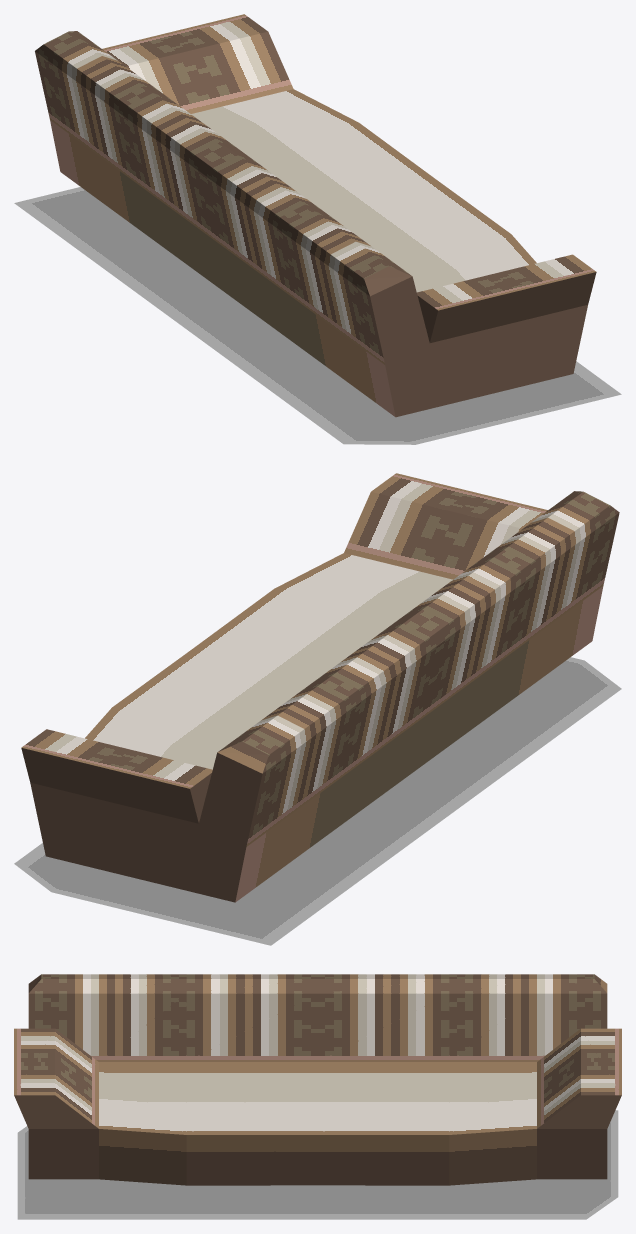
3 renders of one model, top to bottom at view 1: azimuth 30°, elevation 25°; view 2: azimuth 150°, elevation 25°; view 3: azimuth 270°, elevation 25°, orthographic. The views are drawn at different scales.
Parts seen in each view (by area): view 1: polygon0, polygon1; view 2: polygon0, polygon1; view 3: polygon0, polygon1.
Boxes of the visible parts, box(x1,y1,x2,y2) form: polygon0: box(35, 14, 596, 417); polygon1: box(14, 187, 621, 444); polygon0: box(21, 473, 619, 902); polygon1: box(14, 657, 621, 945); polygon0: box(14, 974, 621, 1185); polygon1: box(17, 1110, 618, 1219).
Size of the model in its own units: 4.43 by 2.8 by 10.41.
